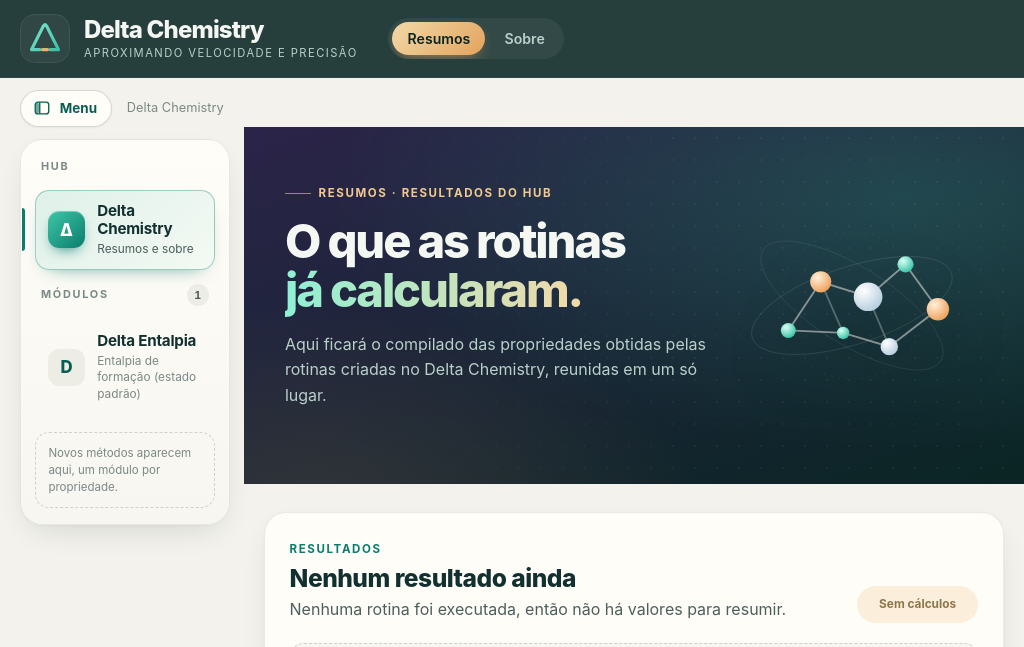
Test case: aba experimental filtra validação, conflito e busca ID
The image size is (1024, 647).
Click the button "D Delta Entalpia Entalpia de formação (estado padrão)" at (125, 367), box [35,320,215,415]
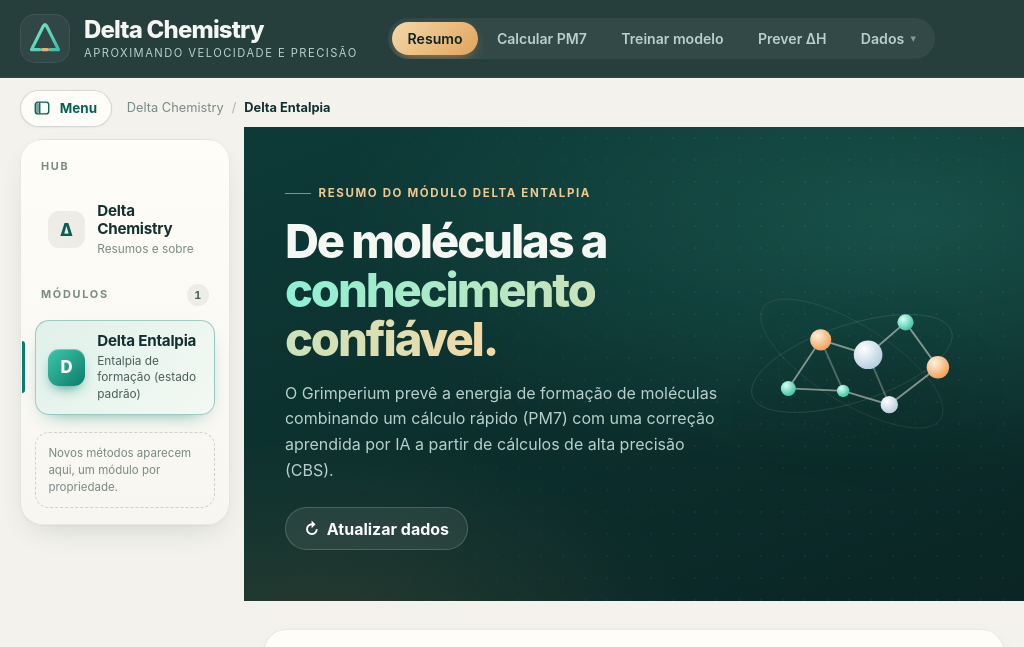
Click the button "Dados ▾" at (888, 38), box [846,22,931,55]
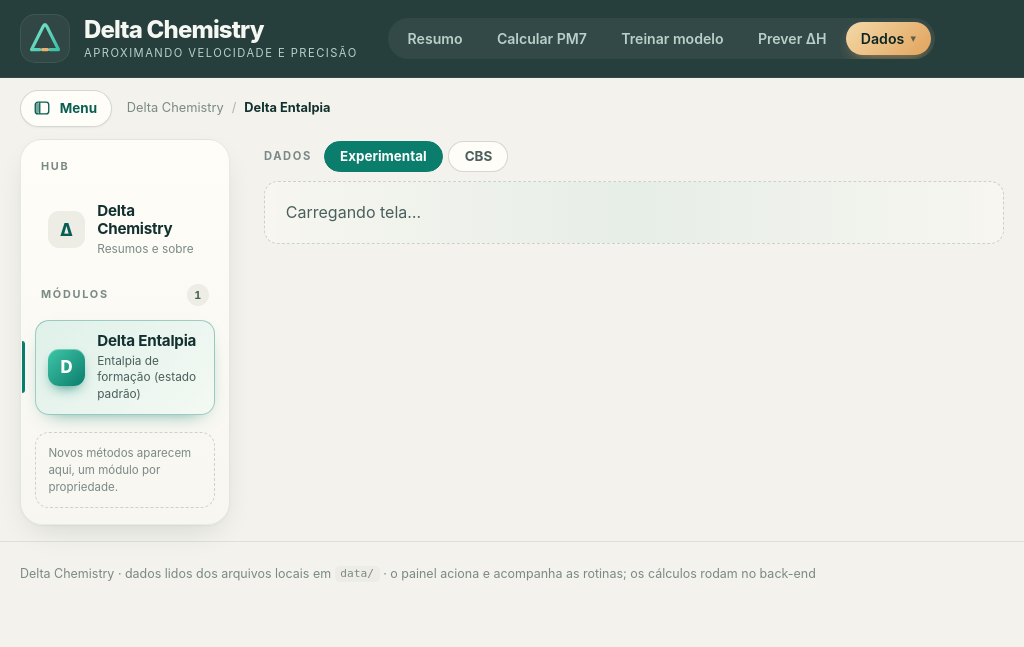
Click the button "Experimental" at (383, 156), box [324,141,443,172]
(page scrolled)
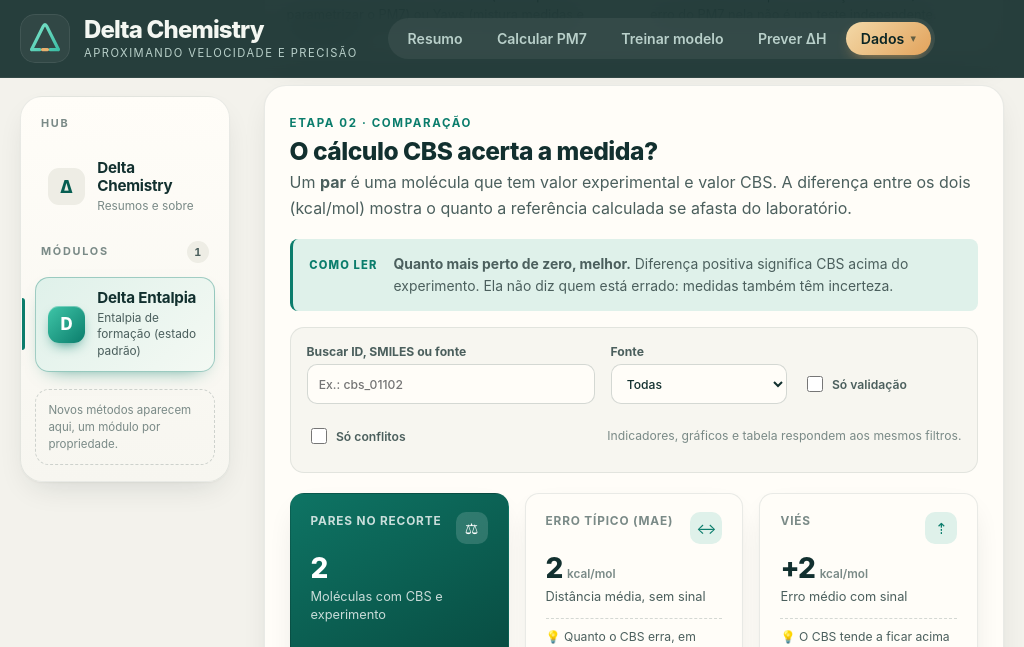
Click the checkbox labelled "Só validação" at (815, 384), box [807,376,823,392]
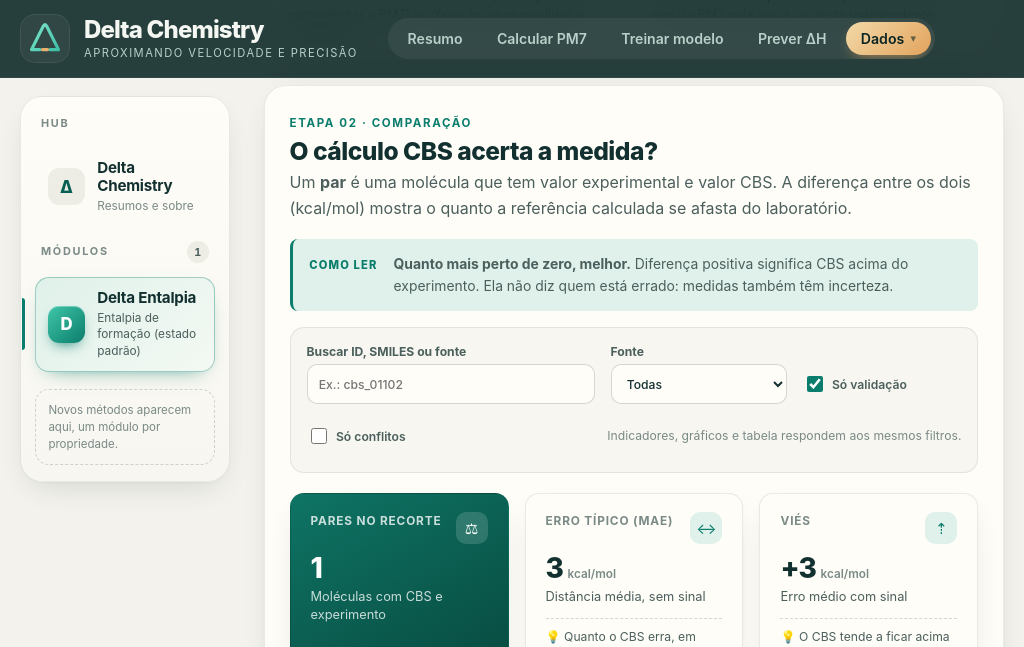
Type "cbs_1" into the field labelled "Buscar ID, SMILES ou fonte" at (451, 384), box [307,364,595,404]
(page scrolled)
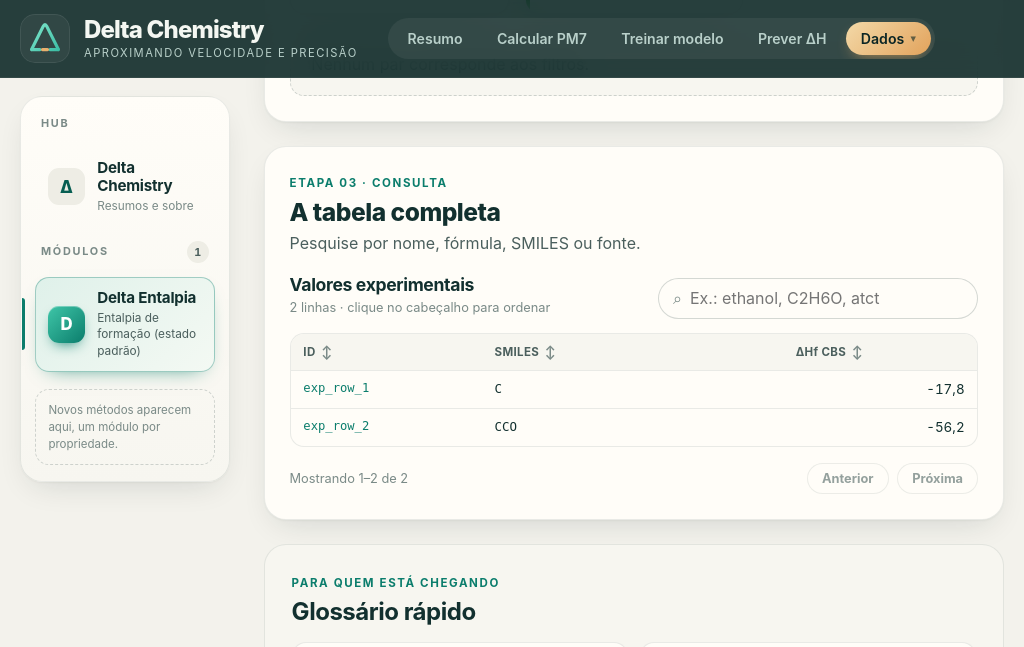
Expected: the element "Valores experimentais" is shown, [290,274,978,494]
Expected: the text "Nenhum par corresponde aos filtros." is shown, [290,34,978,96]
